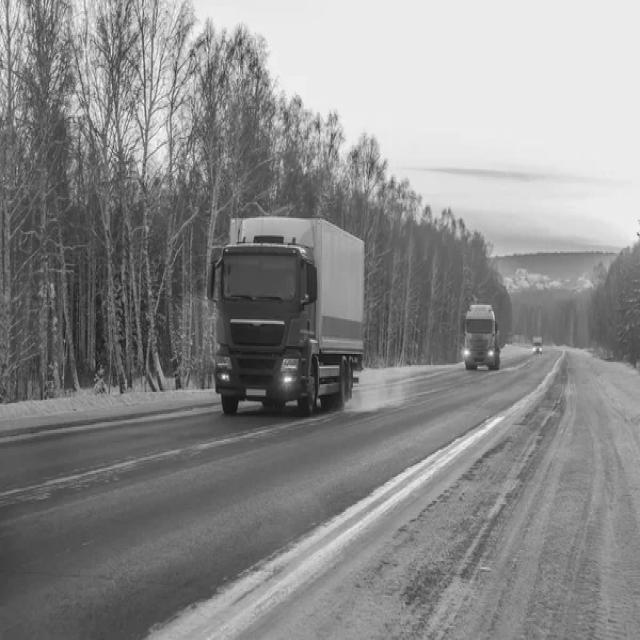Truck: (207, 218, 364, 416), (466, 305, 500, 369)
